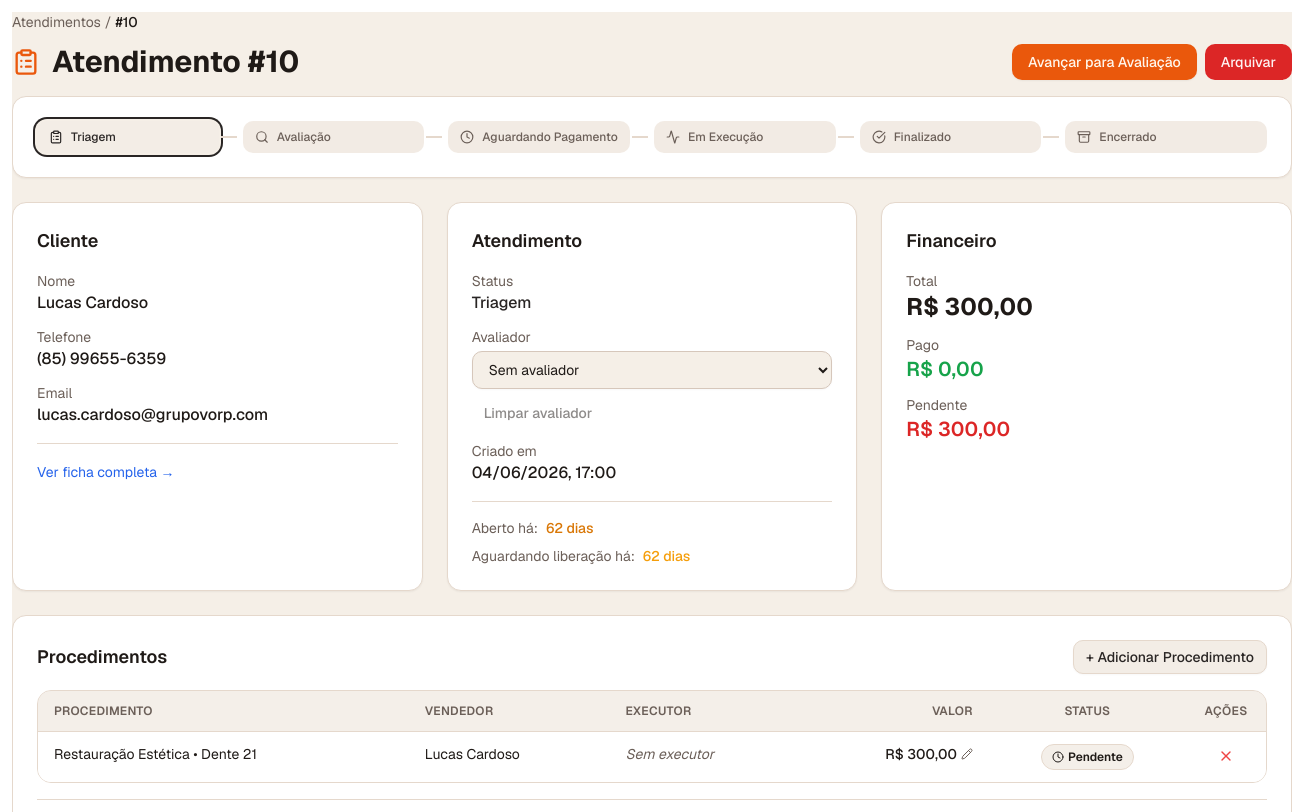
Test case: AtendimentoDetalhePage triagem editável › em triagem permite abrir o seletor de vendedor do item
Expected: the heading "Atendimento #10" is shown, [12, 44, 299, 80]
Click the button with aria-label "Vendedor do item 101" at (472, 754), box [425, 744, 520, 764]
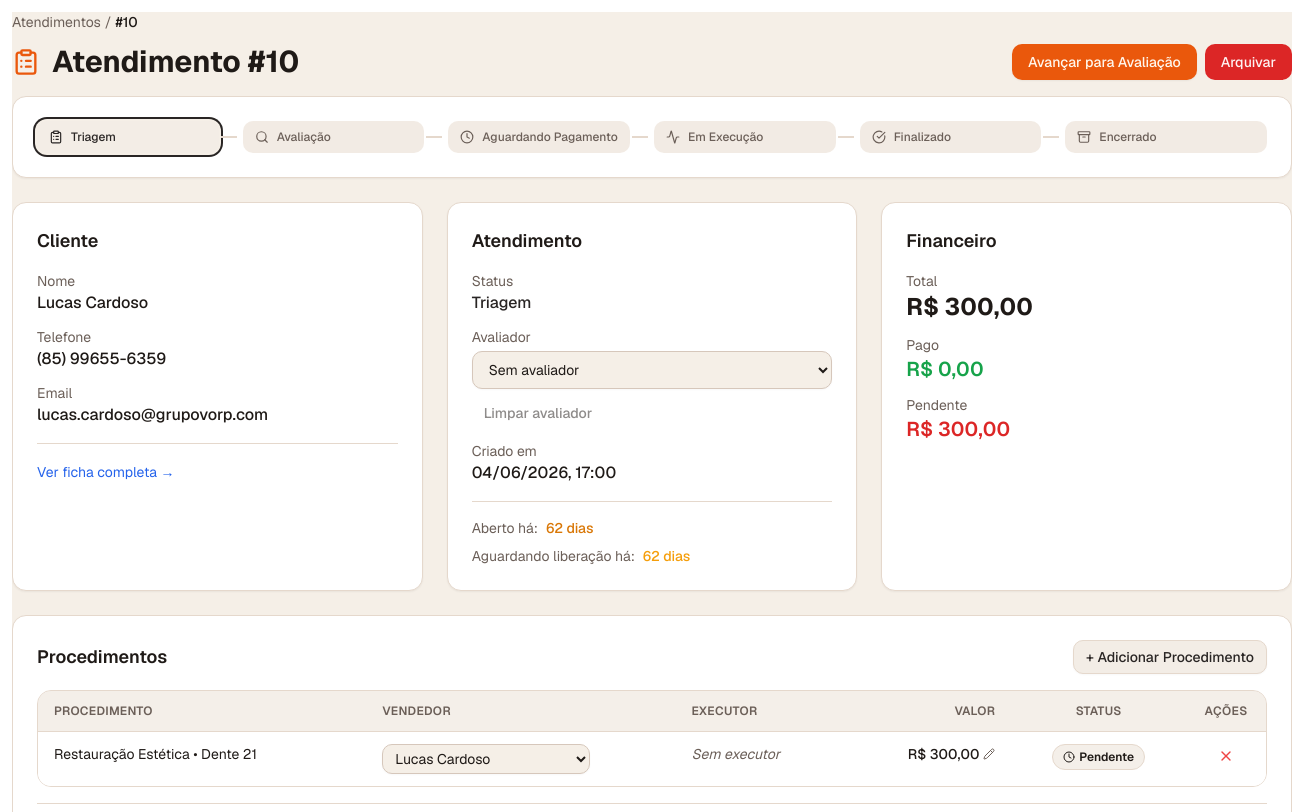
Result: the dropdown named "Vendedor do item 101" is shown at [382, 744, 590, 774]
